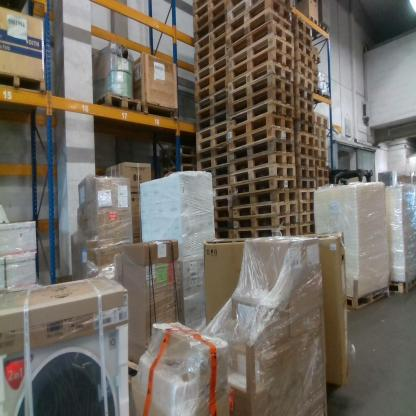pallet: (1, 65, 48, 126), (228, 32, 296, 71), (223, 19, 295, 55), (228, 73, 295, 110), (223, 8, 296, 41), (226, 48, 294, 82), (224, 112, 293, 145), (227, 60, 295, 93), (86, 88, 142, 126), (226, 97, 293, 128), (227, 126, 292, 157), (230, 139, 292, 170), (226, 1, 295, 27), (230, 200, 296, 227), (226, 88, 295, 113), (228, 177, 297, 200), (231, 152, 295, 176), (232, 211, 297, 233), (233, 164, 295, 187), (134, 98, 183, 127), (338, 283, 392, 309), (228, 194, 294, 215), (232, 227, 300, 246), (194, 32, 229, 65), (194, 24, 229, 55), (194, 42, 226, 75), (194, 53, 226, 84), (194, 1, 227, 31), (194, 13, 228, 42), (193, 78, 226, 105), (194, 100, 228, 125), (195, 68, 226, 94), (196, 112, 231, 135), (194, 89, 226, 114), (125, 357, 151, 387), (196, 141, 229, 163), (389, 270, 414, 298), (158, 165, 201, 181), (198, 155, 232, 174), (155, 142, 198, 157), (198, 123, 231, 142), (158, 155, 196, 171), (199, 132, 230, 149), (294, 97, 316, 119), (290, 49, 314, 69), (292, 28, 314, 48), (289, 17, 312, 36), (294, 39, 314, 60), (294, 60, 315, 80), (313, 108, 331, 130), (212, 176, 231, 195), (315, 20, 330, 44), (210, 165, 230, 182), (295, 123, 316, 139), (296, 177, 317, 193), (297, 105, 314, 124), (295, 84, 312, 102), (293, 74, 312, 90), (302, 12, 319, 29), (295, 132, 314, 147), (214, 187, 231, 202), (209, 233, 234, 243), (311, 137, 328, 151), (298, 224, 316, 237), (297, 168, 316, 180), (298, 157, 316, 169), (298, 213, 317, 224), (298, 202, 315, 214), (213, 220, 230, 232), (296, 147, 316, 157), (299, 191, 317, 202), (312, 157, 328, 169), (214, 209, 230, 221), (316, 168, 331, 180), (315, 127, 327, 140), (316, 148, 328, 160), (213, 199, 228, 208), (313, 86, 323, 99), (317, 179, 333, 187), (321, 92, 331, 102)
